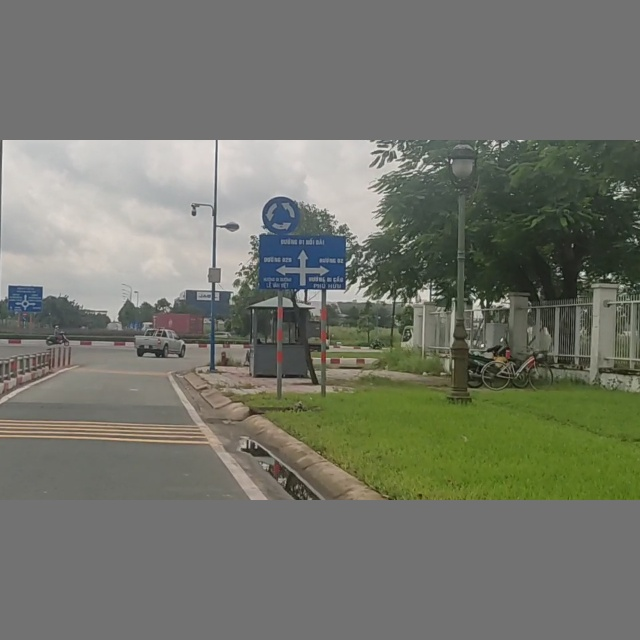R.303: (259, 193, 301, 236)
